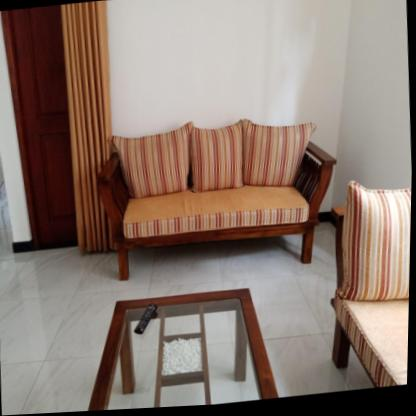Ceramic floor: (0, 230, 373, 416)
Sofa: (90, 113, 340, 287)
